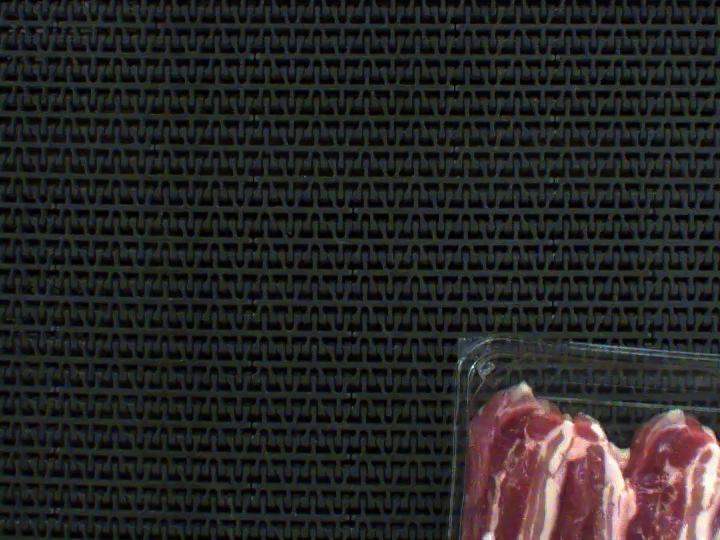packaging-error: (411, 376, 519, 540)
